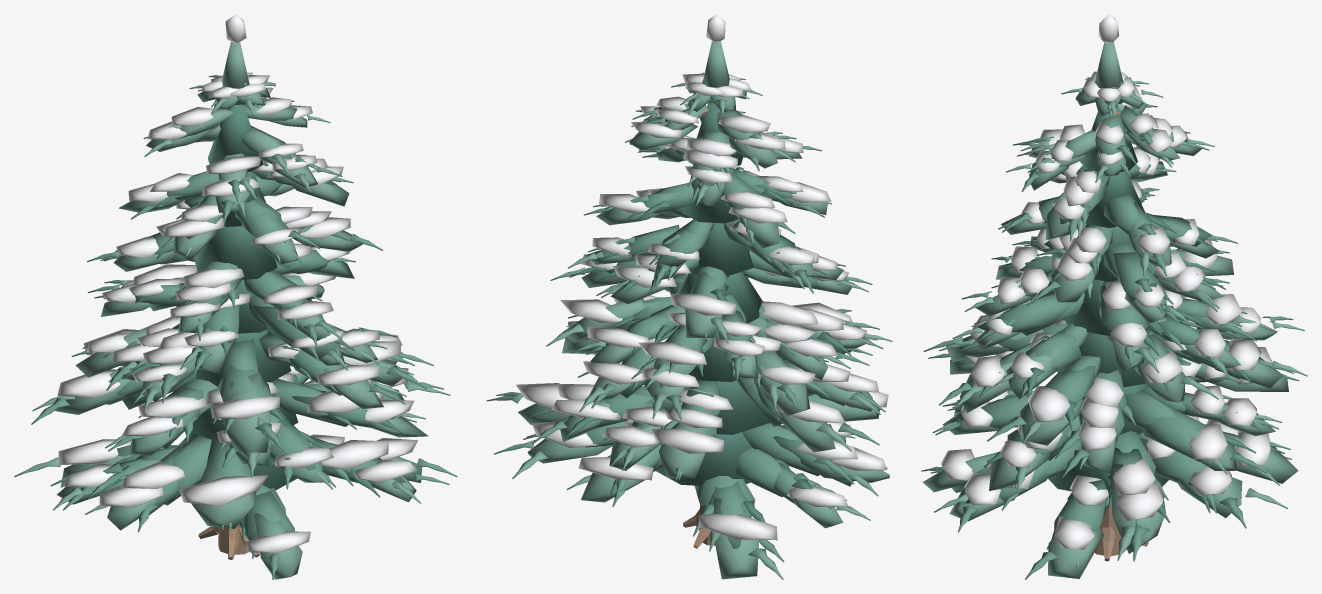
The model's file is Snow_Pine_2.gltf.
3 views of the same model, side by side, from view 1: azimuth 30°, elevation 25°; view 2: azimuth 150°, elevation 25°; view 3: azimuth 270°, elevation 25° (orthographic).
Visible parts, largest first — view 1: Snow_Pine_2; view 2: Snow_Pine_2; view 3: Snow_Pine_2.
Part boxes in pixels (left/top/right/bottom): Snow_Pine_2: left=14, top=14, right=457, bottom=579; Snow_Pine_2: left=486, top=14, right=892, bottom=579; Snow_Pine_2: left=921, top=14, right=1307, bottom=579.
Size of the model in its own units: 4.16 by 5.22 by 3.42.
